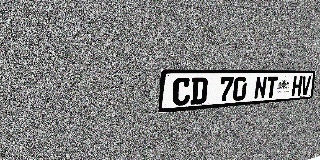plate: (158, 69, 316, 113)
